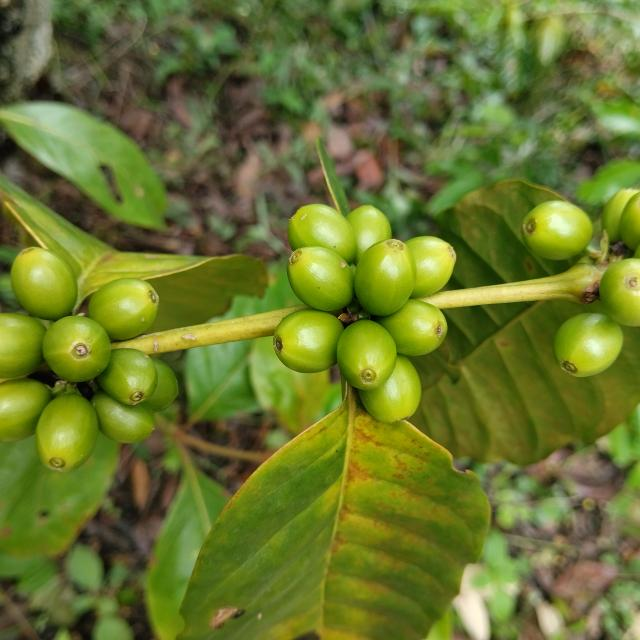green: (34, 394, 98, 473), (10, 247, 77, 321), (354, 239, 417, 316), (41, 316, 110, 382), (273, 309, 344, 373), (554, 313, 624, 377), (88, 278, 159, 341), (287, 246, 355, 311), (522, 200, 594, 260), (359, 355, 422, 423), (337, 320, 397, 391), (374, 299, 448, 356), (288, 204, 357, 263), (96, 349, 158, 405), (90, 391, 155, 443), (0, 379, 52, 443), (405, 236, 457, 298), (0, 313, 45, 379), (600, 258, 640, 327), (346, 205, 392, 264), (602, 188, 640, 242), (620, 191, 640, 250)
